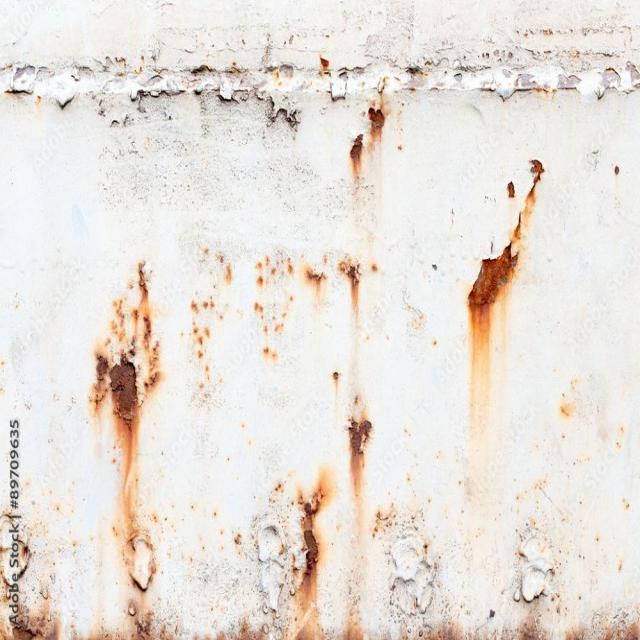Pitting Corrosion: (90, 261, 161, 590), (468, 159, 546, 319), (257, 482, 328, 628), (0, 510, 46, 639), (347, 359, 372, 498), (253, 255, 285, 358), (191, 295, 221, 378), (337, 254, 362, 337), (488, 74, 556, 98), (366, 89, 388, 154), (300, 256, 328, 296), (266, 97, 300, 129), (349, 132, 366, 189), (10, 420, 19, 509), (222, 262, 234, 285), (506, 180, 516, 199), (217, 255, 224, 263)
